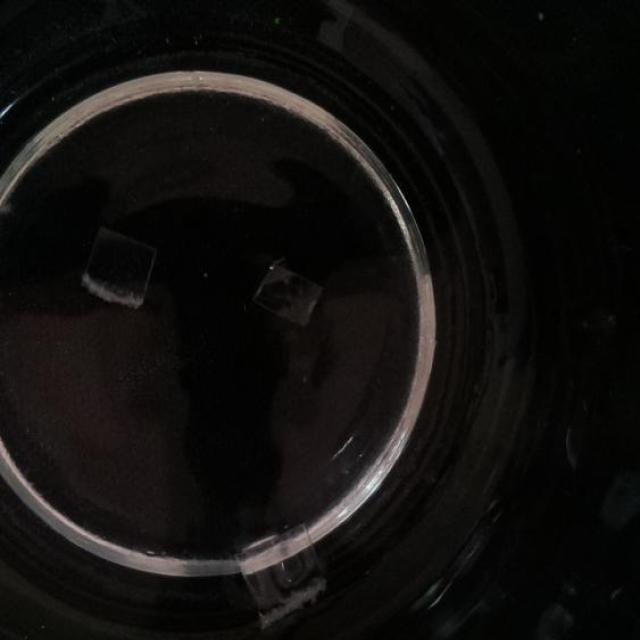fiber: (231, 518, 331, 632), (75, 224, 158, 311), (249, 261, 325, 328)
